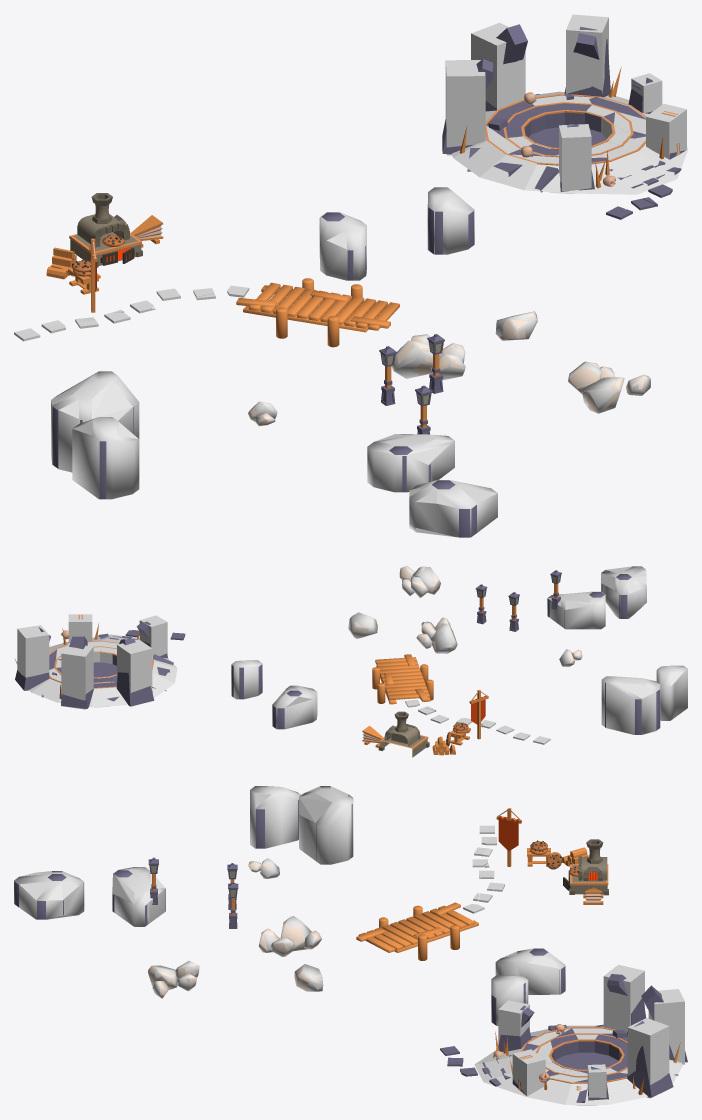
The model's file is sceneryStatic.glb.
3 renders of one model, top to bottom at view 1: azimuth 30°, elevation 25°; view 2: azimuth 150°, elevation 25°; view 3: azimuth 270°, elevation 25°, orthographic. The views are drawn at different scales.
Visible parts, largest first — view 1: trimesh.001, Cube.139, hull.016, hull.015, Cylinder.021, hull.012, hull.011, Cube.165, Cylinder.022, Cube.172, hull.014, Cube.164 (+12 smaller); view 2: hull.015, trimesh.001, Cube.139, Cube.172, hull.012, hull.011, Cylinder.022, Cube.164, Cube.146, hull.016, Cube.165, hull.014 (+11 smaller); view 3: trimesh.001, hull.015, Cube.139, Cylinder.021, Cube.172, hull.011, hull.016, hull.012, hull.014, Cube.146, Cube.165, Cylinder.022 (+11 smaller).
Boxes of the visible parts, bbox=[...] form: trimesh.001: bbox=[452, 91, 687, 194]; Cube.139: bbox=[236, 278, 399, 347]; hull.016: bbox=[72, 417, 139, 499]; hull.015: bbox=[51, 371, 139, 472]; Cylinder.021: bbox=[486, 97, 681, 188]; hull.012: bbox=[367, 434, 454, 492]; hull.011: bbox=[409, 480, 497, 537]; Cube.165: bbox=[445, 60, 485, 155]; Cylinder.022: bbox=[52, 207, 476, 537]; Cube.172: bbox=[442, 24, 652, 191]; hull.014: bbox=[319, 212, 366, 280]; Cube.164: bbox=[471, 22, 525, 109]; hull.015: bbox=[601, 676, 660, 734]; trimesh.001: bbox=[29, 634, 177, 707]; Cube.139: bbox=[372, 654, 433, 704]; Cube.172: bbox=[15, 621, 167, 708]; hull.012: bbox=[547, 591, 605, 629]; hull.011: bbox=[601, 566, 646, 618]; Cylinder.022: bbox=[231, 574, 659, 734]; Cube.164: bbox=[61, 643, 93, 709]; Cube.146: bbox=[17, 625, 49, 690]; hull.016: bbox=[656, 665, 687, 720]; Cube.165: bbox=[117, 639, 152, 706]; hull.014: bbox=[272, 685, 317, 729]; trimesh.001: bbox=[474, 1025, 682, 1105]; hull.015: bbox=[299, 786, 353, 864]; Cube.139: bbox=[356, 902, 478, 960]; Cylinder.021: bbox=[482, 1028, 627, 1086]; Cube.172: bbox=[498, 974, 687, 1100]; hull.011: bbox=[14, 871, 84, 919]; hull.016: bbox=[250, 786, 300, 848]; hull.012: bbox=[112, 867, 165, 926]; hull.014: bbox=[495, 948, 565, 994]; Cube.146: bbox=[627, 1018, 669, 1098]; Cube.165: bbox=[603, 964, 644, 1032]; Cylinder.022: bbox=[14, 800, 565, 1025].
Bounding box in the file's own units: 51.77 × 8.2 × 48.64.
